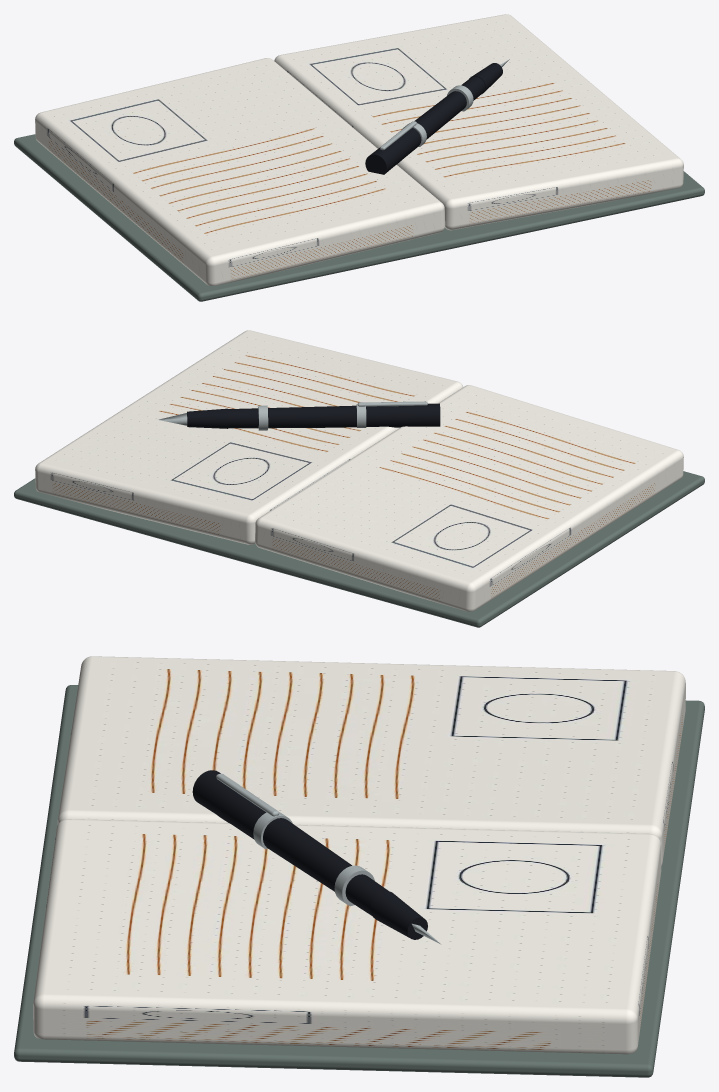
File: atelier-decor-journal-nordic.glb
3 renders of one model, top to bottom at view 1: azimuth 30°, elevation 25°; view 2: azimuth 150°, elevation 25°; view 3: azimuth 270°, elevation 25°, orthographic. The views are drawn at different scales.
Bounding box in the file's own units: 0.3145 × 0.0372 × 0.2395.
Materials: 4 (1 with a texture image).
